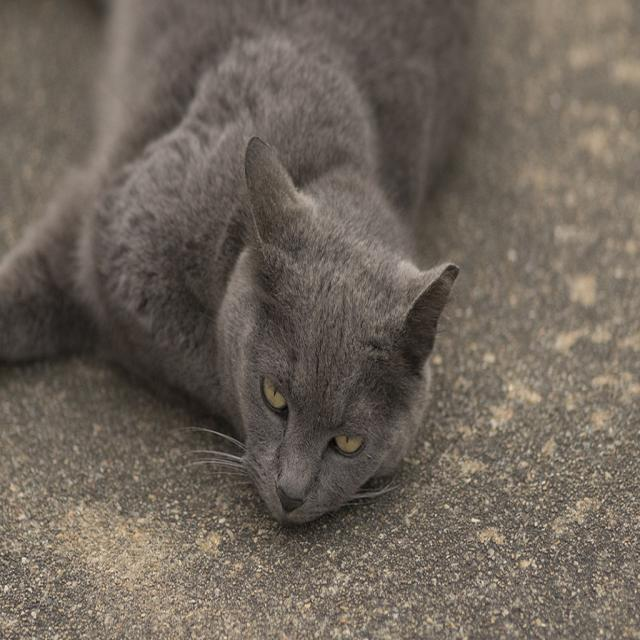Cat: (0, 0, 476, 526)
